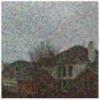chimneys: (87, 38, 96, 64)
